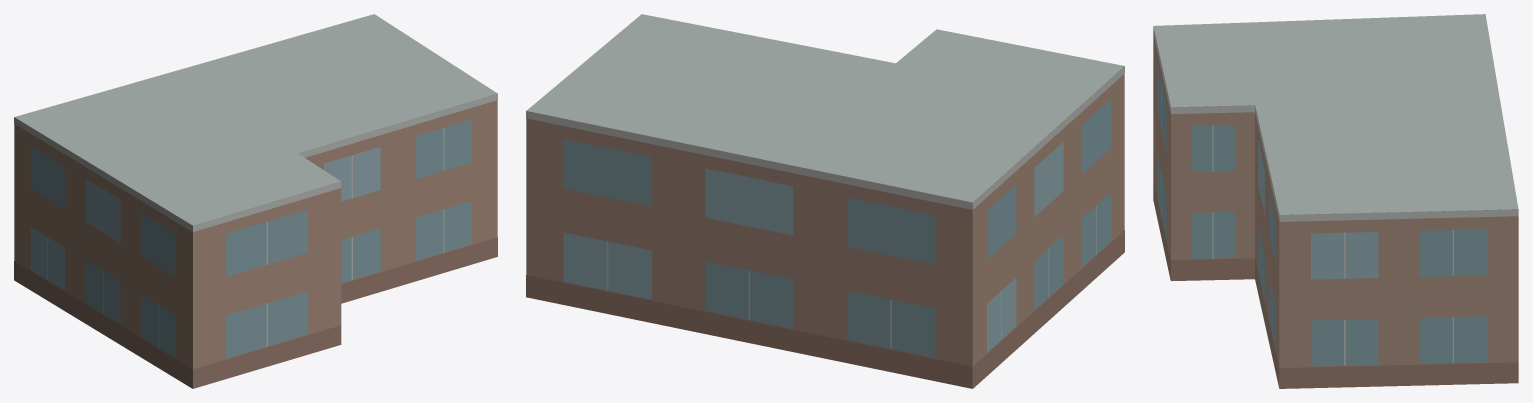
Rendered from survey-upis-32537206.glb.
3 views of the same model, side by side, from view 1: azimuth 30°, elevation 25°; view 2: azimuth 150°, elevation 25°; view 3: azimuth 270°, elevation 25° (orthographic). The views are drawn at different scales.
Parts seen in each view (by area): view 1: survey-upis-32537206.tmp; view 2: survey-upis-32537206.tmp; view 3: survey-upis-32537206.tmp.
Boxes of the visible parts, box(x1,y1,x2,y2) form: survey-upis-32537206.tmp: box(14, 14, 497, 388); survey-upis-32537206.tmp: box(526, 14, 1124, 388); survey-upis-32537206.tmp: box(1153, 14, 1518, 388).
Size of the model in its own units: 15.14 by 6.1 by 11.62.
